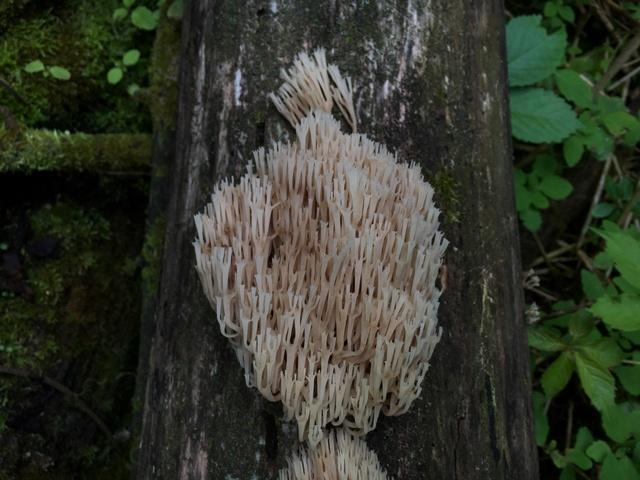edible_mushroom: (189, 47, 450, 462)
